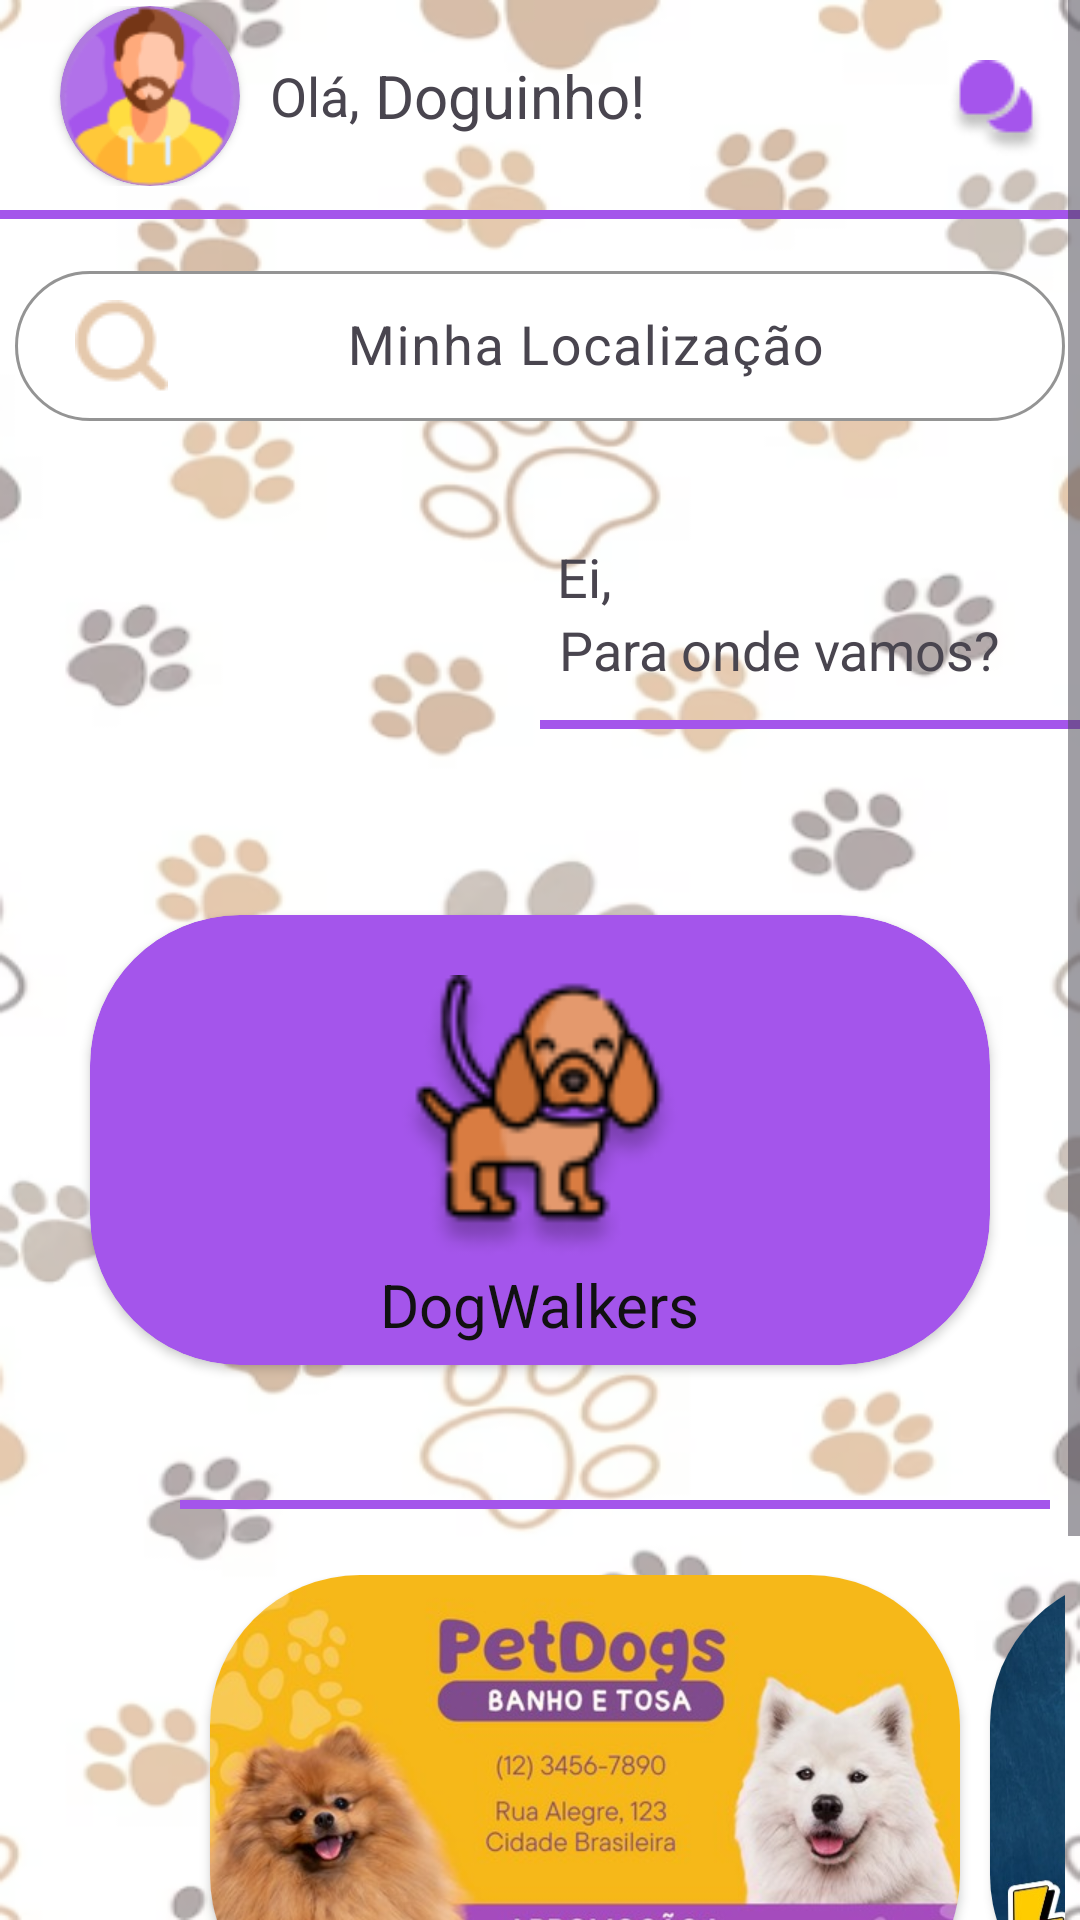

Locate icon controls on the screen. Image size 1080*1920, boxes as (x1, y1, x2, y2).
chat: (958, 60, 1034, 146)
perfil: (60, 6, 240, 186)
